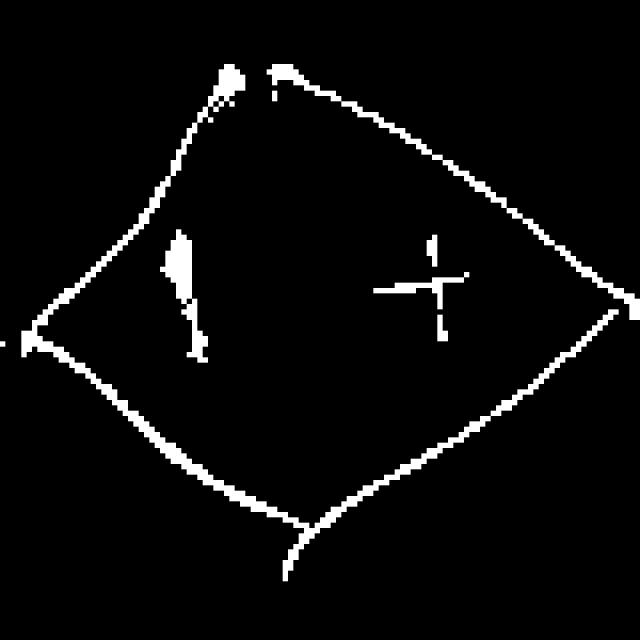dependant_voltage: (23, 51, 612, 559)
